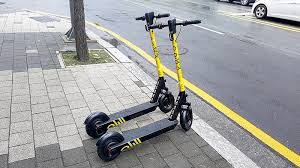kick_handler: (151, 17, 202, 29), (136, 11, 170, 22)
kick_neck: (170, 34, 190, 91), (148, 33, 165, 87)
kick_wheel: (97, 132, 121, 161), (85, 112, 106, 140), (159, 91, 174, 110), (180, 106, 191, 130)
